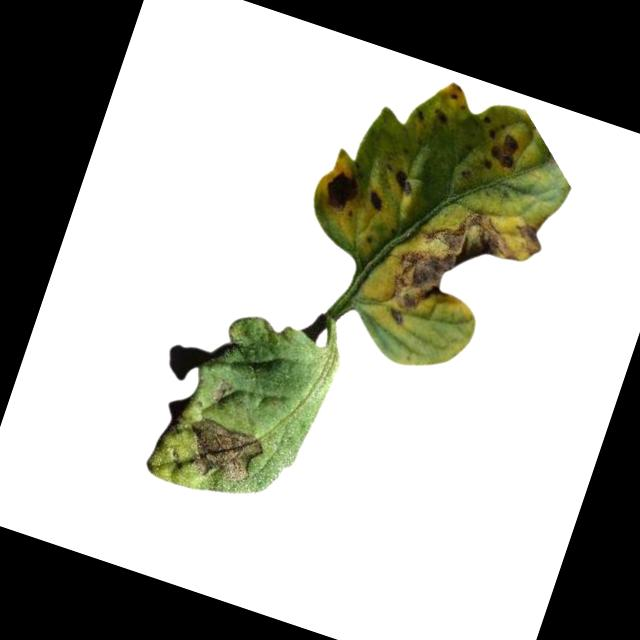Early_blight: (374, 182, 547, 363), (179, 416, 263, 489), (319, 161, 366, 217), (490, 129, 528, 173), (390, 165, 420, 198), (362, 183, 389, 215), (206, 375, 231, 407)
